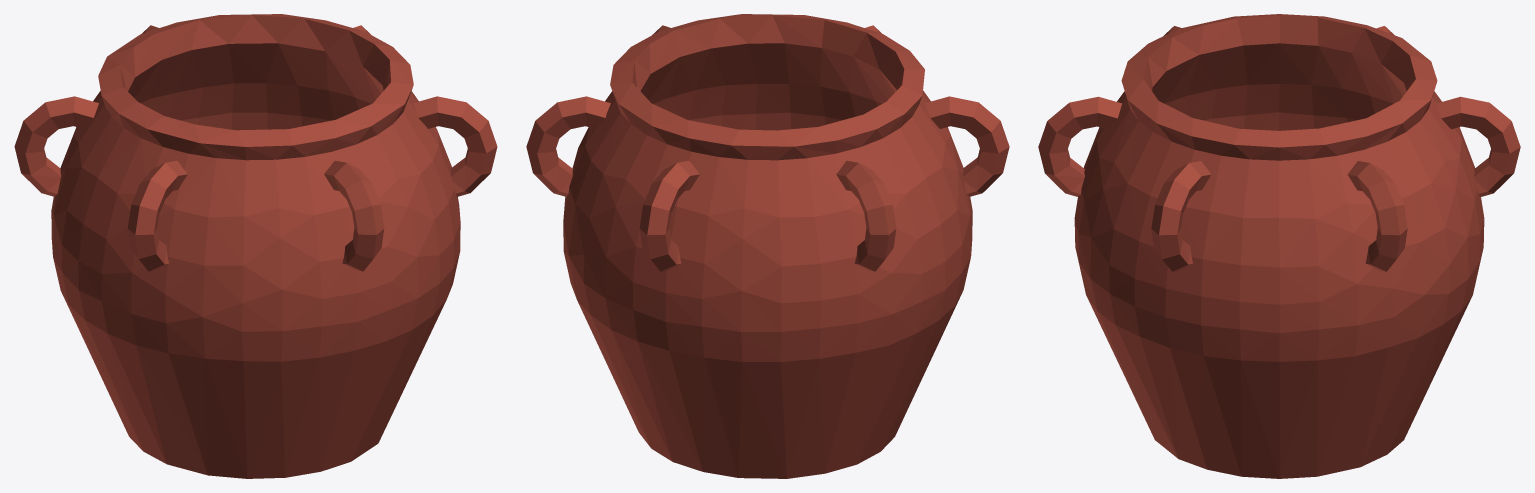
The model's file is Pottery 1_2b.fbx.
3 views of the same model, side by side, from view 1: azimuth 30°, elevation 25°; view 2: azimuth 150°, elevation 25°; view 3: azimuth 270°, elevation 25° (orthographic).
Parts seen in each view (by area): view 1: Pottery 1_2c.002, Pottery 1_2c.006, Pottery 1_2c.001, Pottery 1_2c.003, Pottery 1_2c.005, Pottery 1_2c.004, Pottery 1_2c; view 2: Pottery 1_2c.005, Pottery 1_2c.004, Pottery 1_2c.003, Pottery 1_2c.007, Pottery 1_2c.001, Pottery 1_2c, Pottery 1_2c.002, Pottery 1_2c.006; view 3: Pottery 1_2c.003, Pottery 1_2c.007, Pottery 1_2c.002, Pottery 1_2c.001, Pottery 1_2c.004, Pottery 1_2c.006, Pottery 1_2c, Pottery 1_2c.005.
Part boxes in pixels (x1,y1,x2,y2): Pottery 1_2c.002: (81, 87, 311, 360); Pottery 1_2c.006: (95, 182, 460, 458); Pottery 1_2c.001: (257, 77, 428, 324); Pottery 1_2c.003: (219, 14, 497, 221); Pottery 1_2c.005: (14, 47, 141, 358); Pottery 1_2c.004: (115, 15, 305, 130); Pottery 1_2c: (93, 353, 402, 478); Pottery 1_2c.005: (709, 115, 970, 423); Pottery 1_2c.004: (575, 113, 781, 341); Pottery 1_2c.003: (526, 18, 757, 221); Pottery 1_2c.007: (563, 204, 756, 436); Pottery 1_2c.001: (709, 14, 899, 128); Pottery 1_2c: (628, 367, 920, 478); Pottery 1_2c.002: (863, 44, 1009, 256); Pottery 1_2c.006: (715, 88, 970, 381); Pottery 1_2c.003: (1131, 88, 1430, 333); Pottery 1_2c.007: (1161, 242, 1472, 444); Pottery 1_2c.002: (1141, 14, 1323, 129); Pottery 1_2c.001: (1038, 45, 1203, 260); Pottery 1_2c.004: (1387, 41, 1520, 293); Pottery 1_2c.006: (1076, 200, 1195, 414); Pottery 1_2c: (1142, 411, 1417, 478); Pottery 1_2c.005: (1259, 16, 1408, 130).
Size of the model in its own units: 90.28 by 83.69 by 104.
